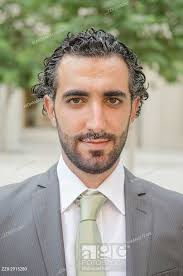middle_eastern_male: (51, 50, 147, 171)
